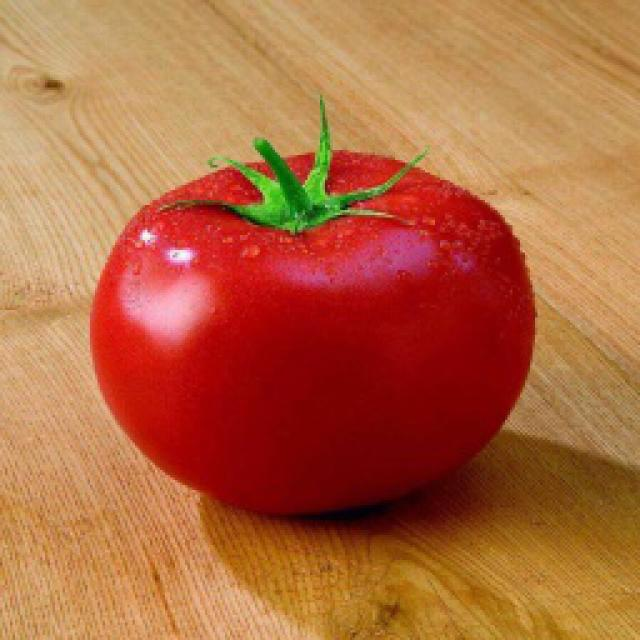tomato: (85, 138, 540, 520)
